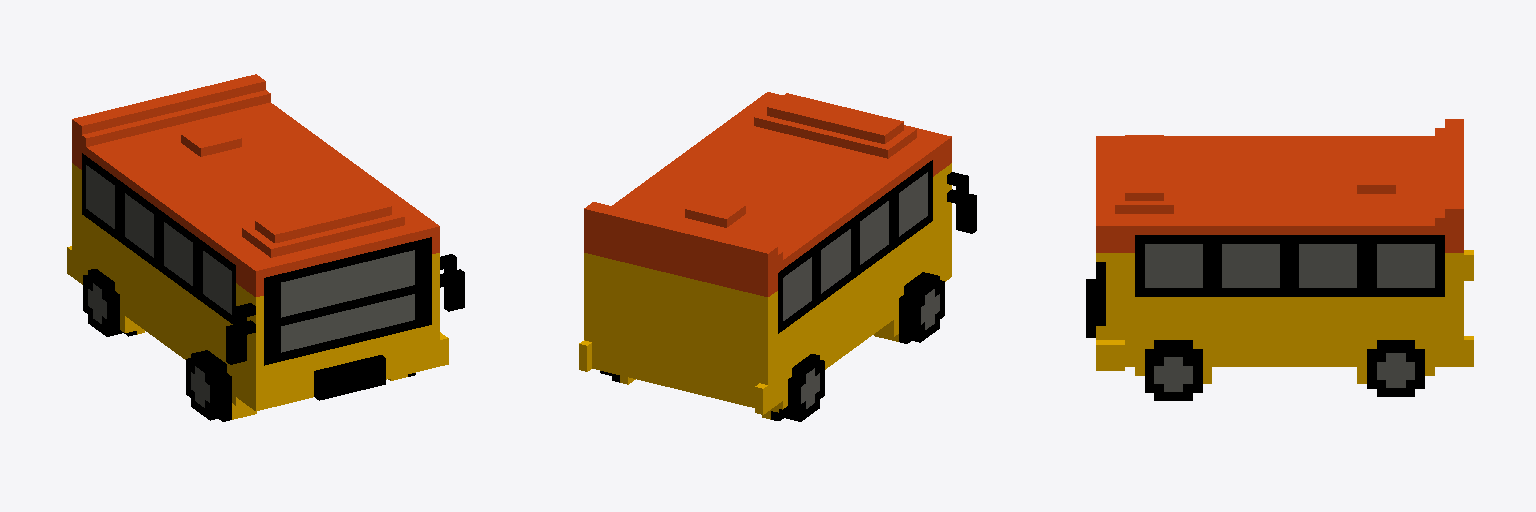
The picture shows the model from 3 angles: view 1: azimuth 30°, elevation 25°; view 2: azimuth 150°, elevation 25°; view 3: azimuth 270°, elevation 25°; orthographic projection.
Visible parts, largest first — view 1: object 1; view 2: object 1; view 3: object 1.
Part boxes in pixels (bbox=[...]): object 1: bbox=[67, 74, 464, 421]; object 1: bbox=[579, 92, 976, 421]; object 1: bbox=[1086, 119, 1473, 400].
Bounding box in the file's own units: 2.8 × 2.1 × 4.
1 materials, 1 textured.